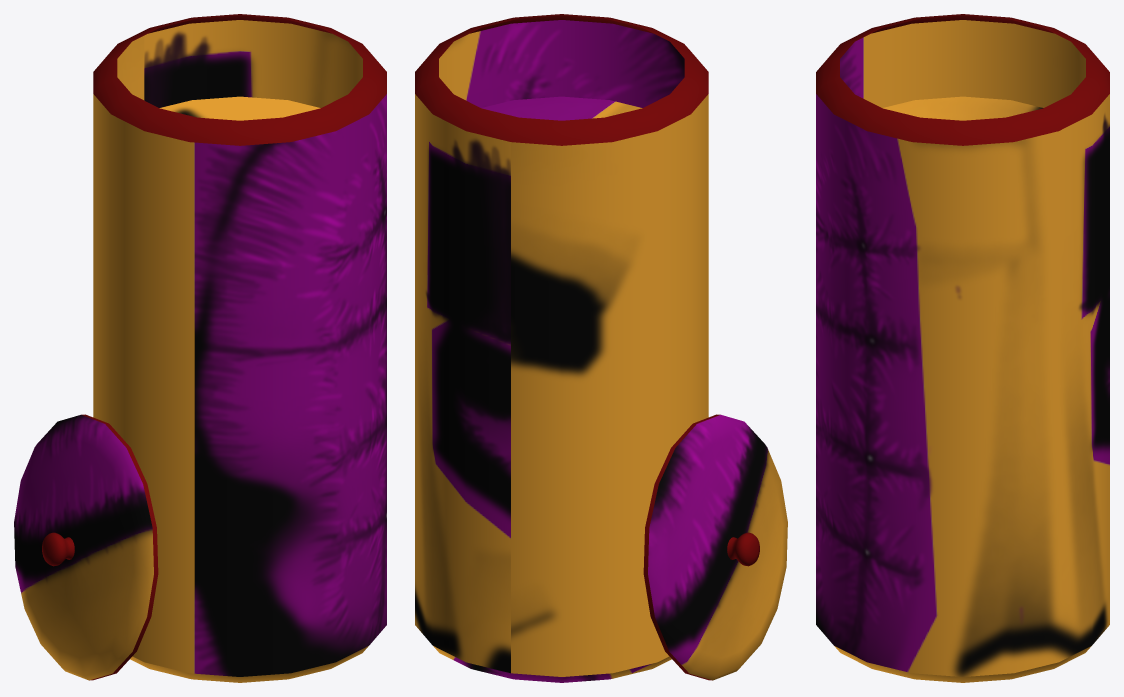
The model's file is Tank.FBX.
3 views of the same model, side by side, from view 1: azimuth 30°, elevation 25°; view 2: azimuth 150°, elevation 25°; view 3: azimuth 270°, elevation 25° (orthographic).
Parts seen in each view (by area): view 1: Cylinder014; view 2: Cylinder014; view 3: Cylinder014.
Part boxes in pixels (bbox=[...]): Cylinder014: bbox=[14, 14, 386, 682]; Cylinder014: bbox=[415, 14, 787, 682]; Cylinder014: bbox=[816, 14, 1109, 682].
Size of the model in its own units: 20.04 by 33.27 by 15.78.
